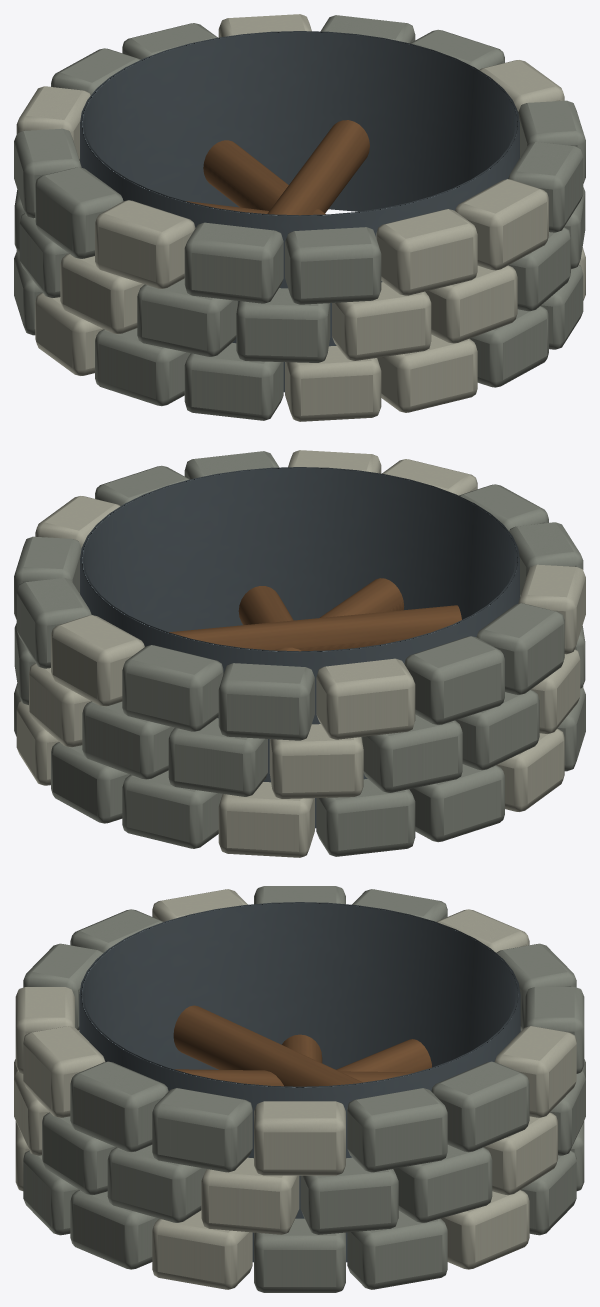
File: FirePit.gltf
3 renders of one model, top to bottom at view 1: azimuth 30°, elevation 25°; view 2: azimuth 150°, elevation 25°; view 3: azimuth 270°, elevation 25°, orthographic.
Parts seen in each view (by area): view 1: FirePit__Body; view 2: FirePit__Body; view 3: FirePit__Body.
Boxes of the visible parts, left/top/right/bottom form: FirePit__Body: left=14, top=14, right=585, bottom=421; FirePit__Body: left=14, top=450, right=585, bottom=857; FirePit__Body: left=14, top=886, right=585, bottom=1292.
Bounding box in the file's own units: 1.12 × 0.392 × 1.12.
1 material, 1 textured.
